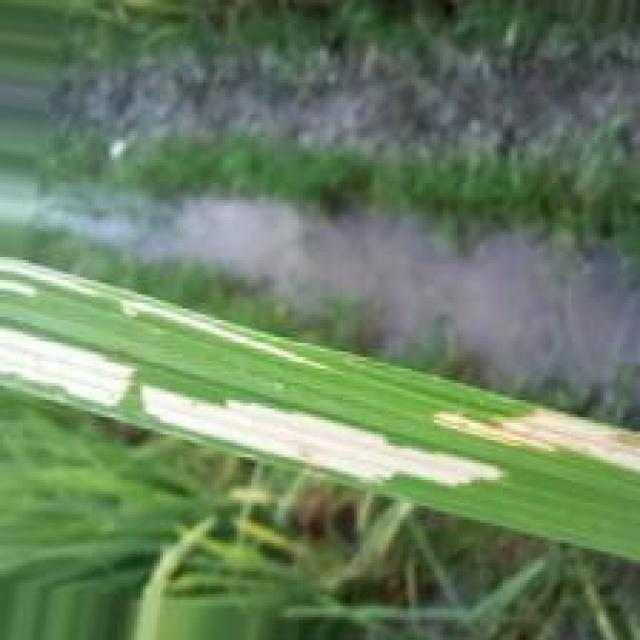Rice_Hispa: (138, 389, 509, 488), (0, 257, 316, 367), (431, 404, 640, 476), (0, 323, 131, 409)
